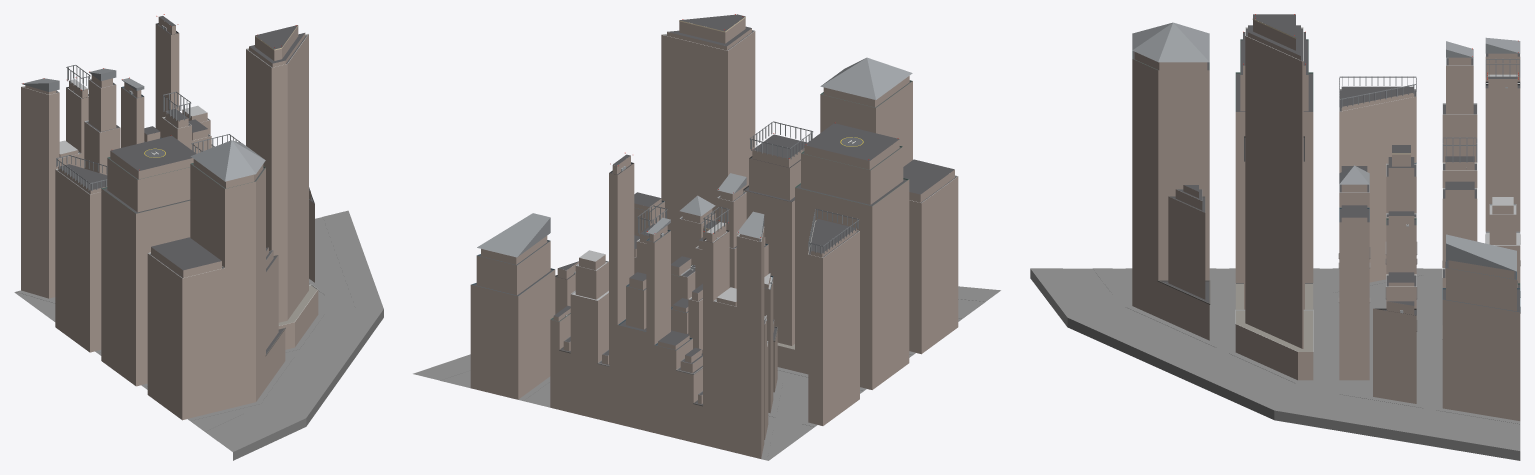
The picture shows the model from 3 angles, left to right: view 1: azimuth 30°, elevation 25°; view 2: azimuth 150°, elevation 25°; view 3: azimuth 270°, elevation 25°; orthographic projection. The views are drawn at different scales.
Visible parts, largest first — view 1: t37_facade, t37_ground, t37_roof, t37_detail; view 2: t37_facade, t37_roof, t37_ground, t37_detail; view 3: t37_facade, t37_ground, t37_roof, t37_detail.
Boxes of the visible parts, bbox=[...] form: t37_facade: bbox=[21, 17, 318, 420]; t37_ground: bbox=[14, 210, 383, 460]; t37_roof: bbox=[21, 14, 316, 353]; t37_detail: bbox=[21, 23, 317, 355]; t37_facade: bbox=[470, 18, 958, 458]; t37_roof: bbox=[474, 14, 956, 404]; t37_ground: bbox=[413, 286, 1000, 460]; t37_detail: bbox=[471, 30, 957, 406]; t37_facade: bbox=[1132, 20, 1520, 420]; t37_ground: bbox=[1030, 268, 1520, 460]; t37_roof: bbox=[1132, 14, 1520, 351]; t37_detail: bbox=[1132, 27, 1520, 351].
Bounding box in the file's own units: 339 × 292 × 379.
